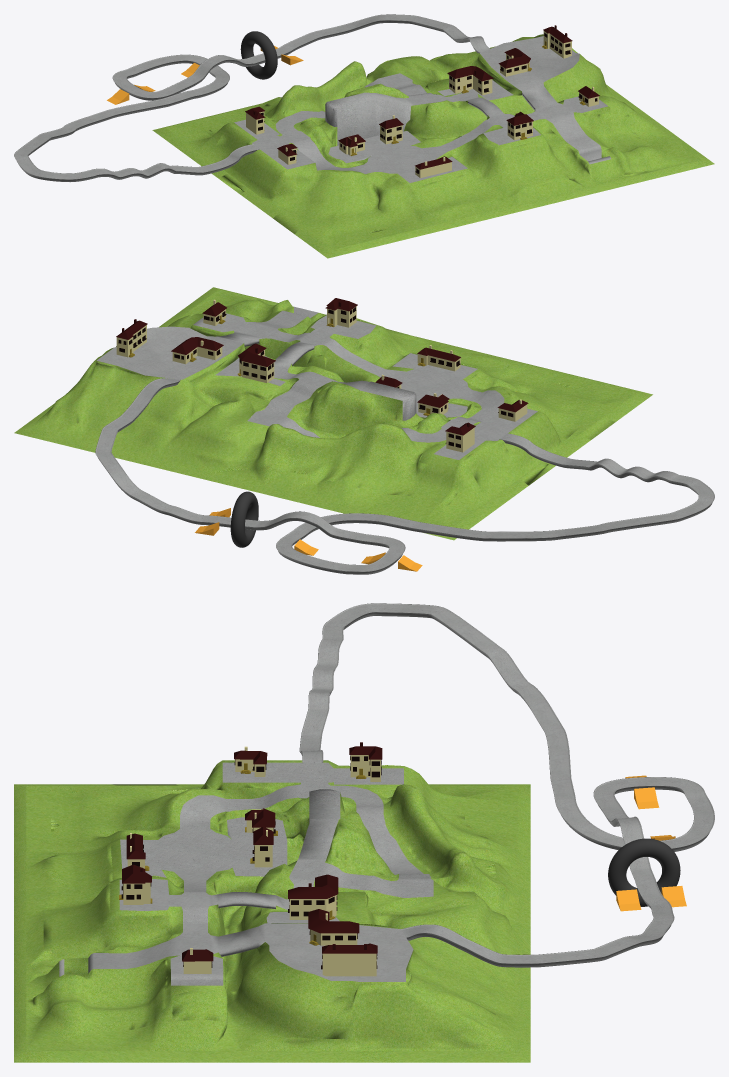
The model's file is town_model.gltf.
The picture shows the model from 3 angles, top to bottom: view 1: azimuth 30°, elevation 25°; view 2: azimuth 150°, elevation 25°; view 3: azimuth 270°, elevation 25°; orthographic projection. The views are drawn at different scales.
Visible parts, largest first — view 1: GrassMesh, RoadMesh, RacetrackMesh, HugeTireMesh, House01Mesh, House03Mesh, House02Mesh, House05Mesh, House06Mesh, House07Mesh, House10Mesh, House08Mesh; view 2: GrassMesh, RoadMesh, RacetrackMesh, HugeTireMesh, House01Mesh, House02Mesh, House03Mesh, House05Mesh, House06Mesh, House10Mesh, House08Mesh, House09Mesh; view 3: GrassMesh, RoadMesh, RacetrackMesh, HugeTireMesh, House03Mesh, House01Mesh, House02Mesh, House05Mesh, House10Mesh, House07Mesh, House09Mesh, House04Mesh.
Boxes of the visible parts, x1,y1,x2,y2 form: GrassMesh: (152, 34, 714, 258); RoadMesh: (234, 36, 611, 182); RacetrackMesh: (14, 14, 489, 182); HugeTireMesh: (240, 31, 277, 79); House01Mesh: (447, 66, 493, 95); House03Mesh: (542, 25, 572, 58); House02Mesh: (498, 48, 531, 76); House05Mesh: (506, 111, 533, 140); House06Mesh: (415, 156, 452, 177); House07Mesh: (379, 115, 403, 144); House10Mesh: (245, 106, 265, 134); House08Mesh: (338, 134, 365, 155); GrassMesh: (14, 287, 652, 540); RoadMesh: (97, 306, 537, 459); RacetrackMesh: (95, 378, 714, 574); HugeTireMesh: (230, 491, 258, 547); House01Mesh: (237, 343, 275, 382); House02Mesh: (171, 337, 223, 364); House03Mesh: (116, 319, 147, 357); House05Mesh: (325, 298, 357, 327); House06Mesh: (417, 345, 460, 371); House10Mesh: (445, 422, 475, 452); House08Mesh: (417, 393, 449, 415); House09Mesh: (497, 399, 528, 421); GrassMesh: (14, 760, 530, 1062); RoadMesh: (59, 762, 433, 985); RacetrackMesh: (299, 603, 714, 967); HugeTireMesh: (608, 838, 680, 906); House03Mesh: (321, 943, 377, 976); House01Mesh: (288, 874, 338, 919); House02Mesh: (308, 909, 359, 945); House05Mesh: (119, 864, 152, 904); House10Mesh: (349, 742, 382, 781); House07Mesh: (250, 827, 273, 867); House09Mesh: (234, 746, 267, 776); House04Mesh: (182, 948, 213, 973).
Size of what is drawn, in the model's own units: 182 by 22.4 by 134.
8 materials, 2 textured.
